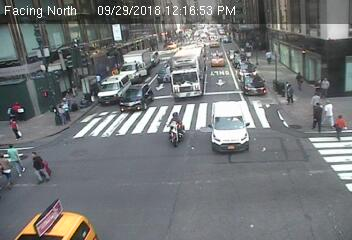car: (14, 206, 104, 239), (209, 98, 249, 153), (172, 47, 206, 100), (98, 72, 130, 106), (121, 51, 153, 79), (119, 83, 153, 109), (244, 76, 267, 101), (235, 62, 260, 81), (157, 63, 171, 83), (210, 50, 226, 67), (229, 49, 241, 59), (223, 36, 232, 43)
